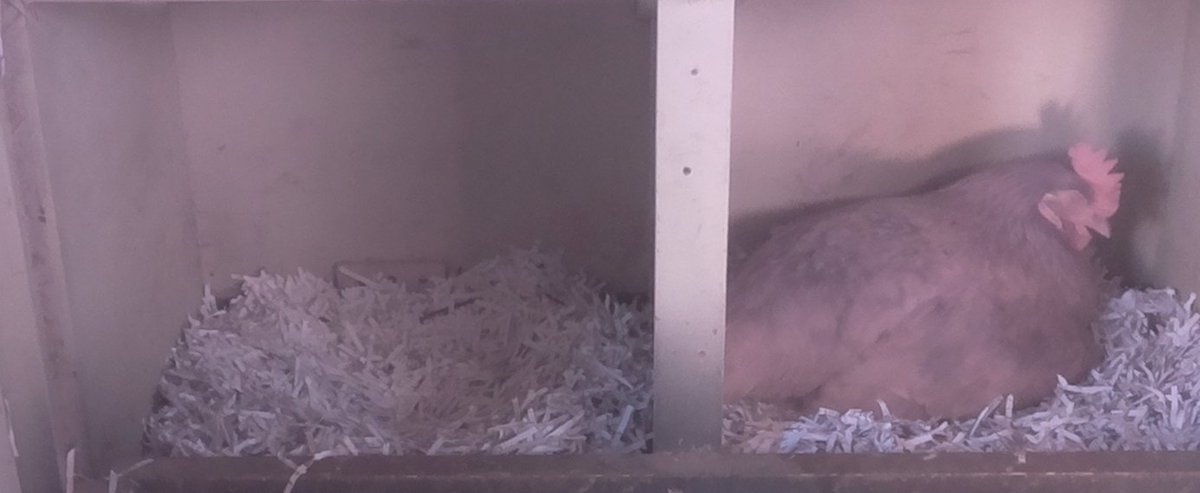hen: (731, 141, 1130, 437)
